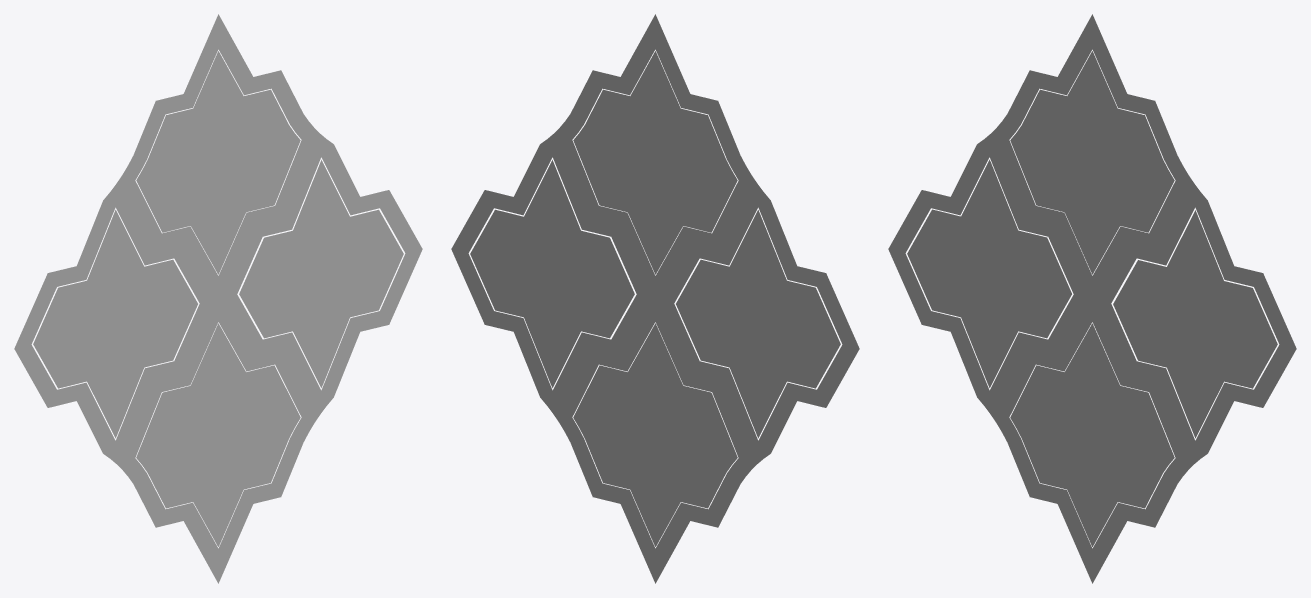
Rendered from argyle.glb.
3 renders of one model, left to right at view 1: azimuth 30°, elevation 25°; view 2: azimuth 150°, elevation 25°; view 3: azimuth 330°, elevation 25°, orthographic.
Parts seen in each view (by area): view 1: argyle; view 2: argyle; view 3: argyle.
Boxes of the visible parts, bbox=[...] form: argyle: bbox=[14, 14, 422, 583]; argyle: bbox=[451, 14, 859, 583]; argyle: bbox=[888, 14, 1296, 583].
Bounding box in the file's own units: 91.44 × 122 × 0.
5 materials, 5 textured.
